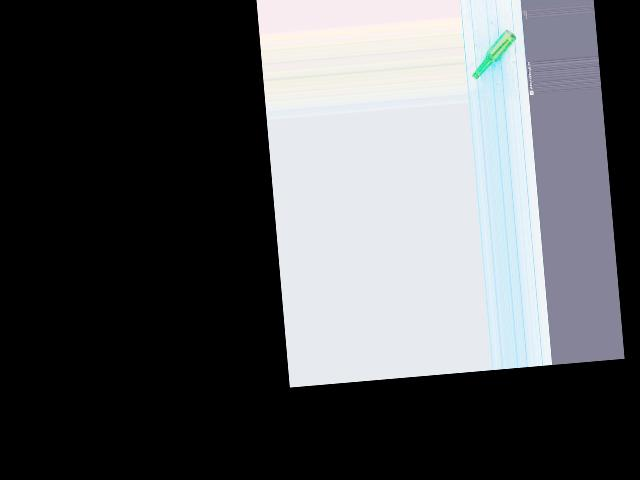beer: (468, 28, 520, 79)
